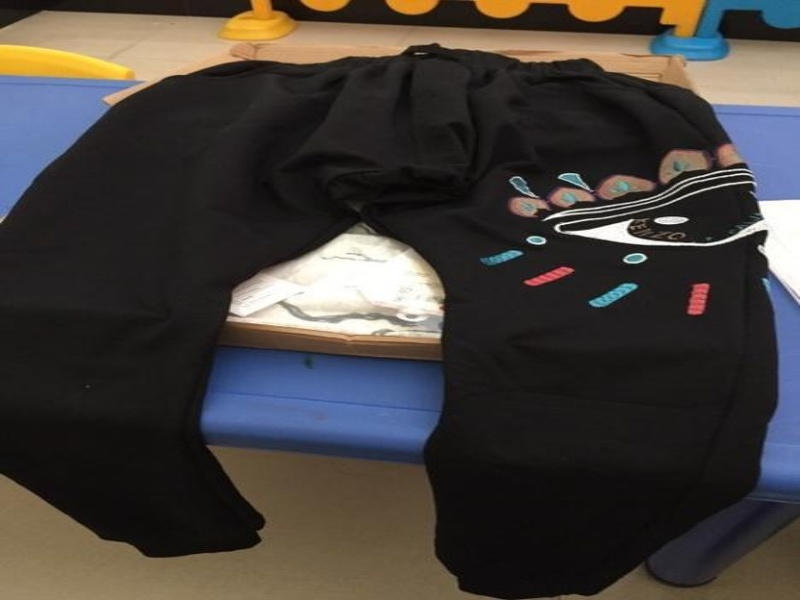trousers: (0, 38, 798, 599)
